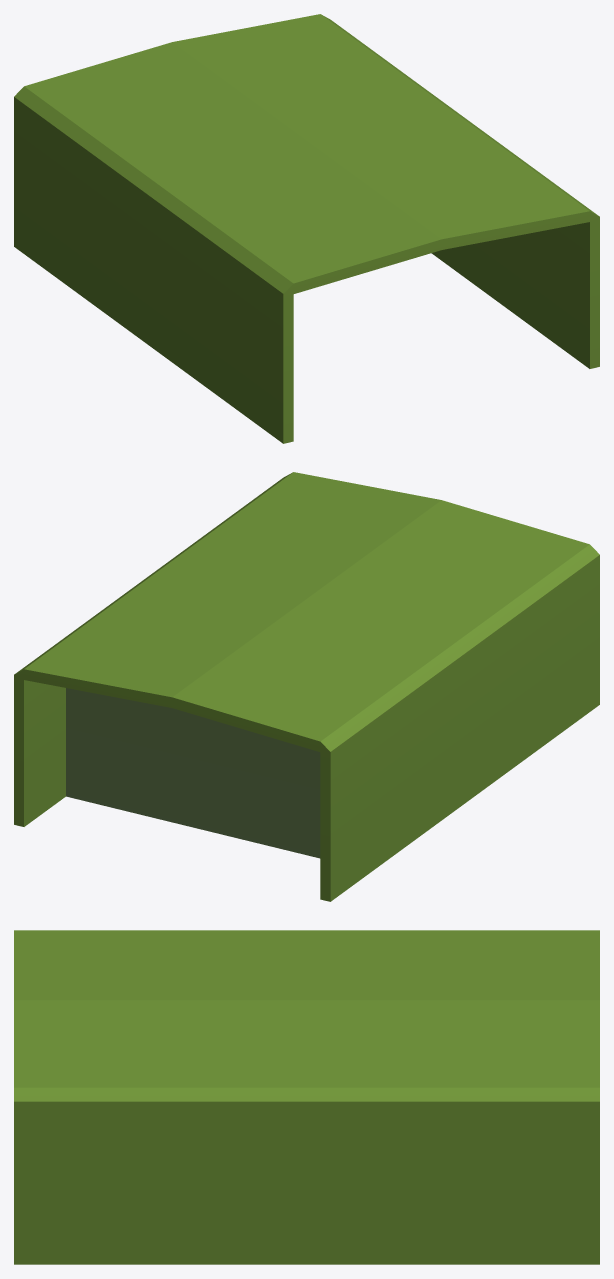
File: Tunel_02.fbx
3 views of the same model, one above another, from view 1: azimuth 30°, elevation 25°; view 2: azimuth 150°, elevation 25°; view 3: azimuth 270°, elevation 25° (orthographic). The views are drawn at different scales.
Visible parts, largest first — view 1: Tunel_02; view 2: Tunel_02; view 3: Tunel_02.
Boxes of the visible parts, x1=… form: Tunel_02: x1=14, y1=14, x2=599, y2=443; Tunel_02: x1=14, y1=472, x2=599, y2=901; Tunel_02: x1=14, y1=930, x2=599, y2=1264.
Size of the model in its own units: 12.4 by 6.21 by 18.29.
